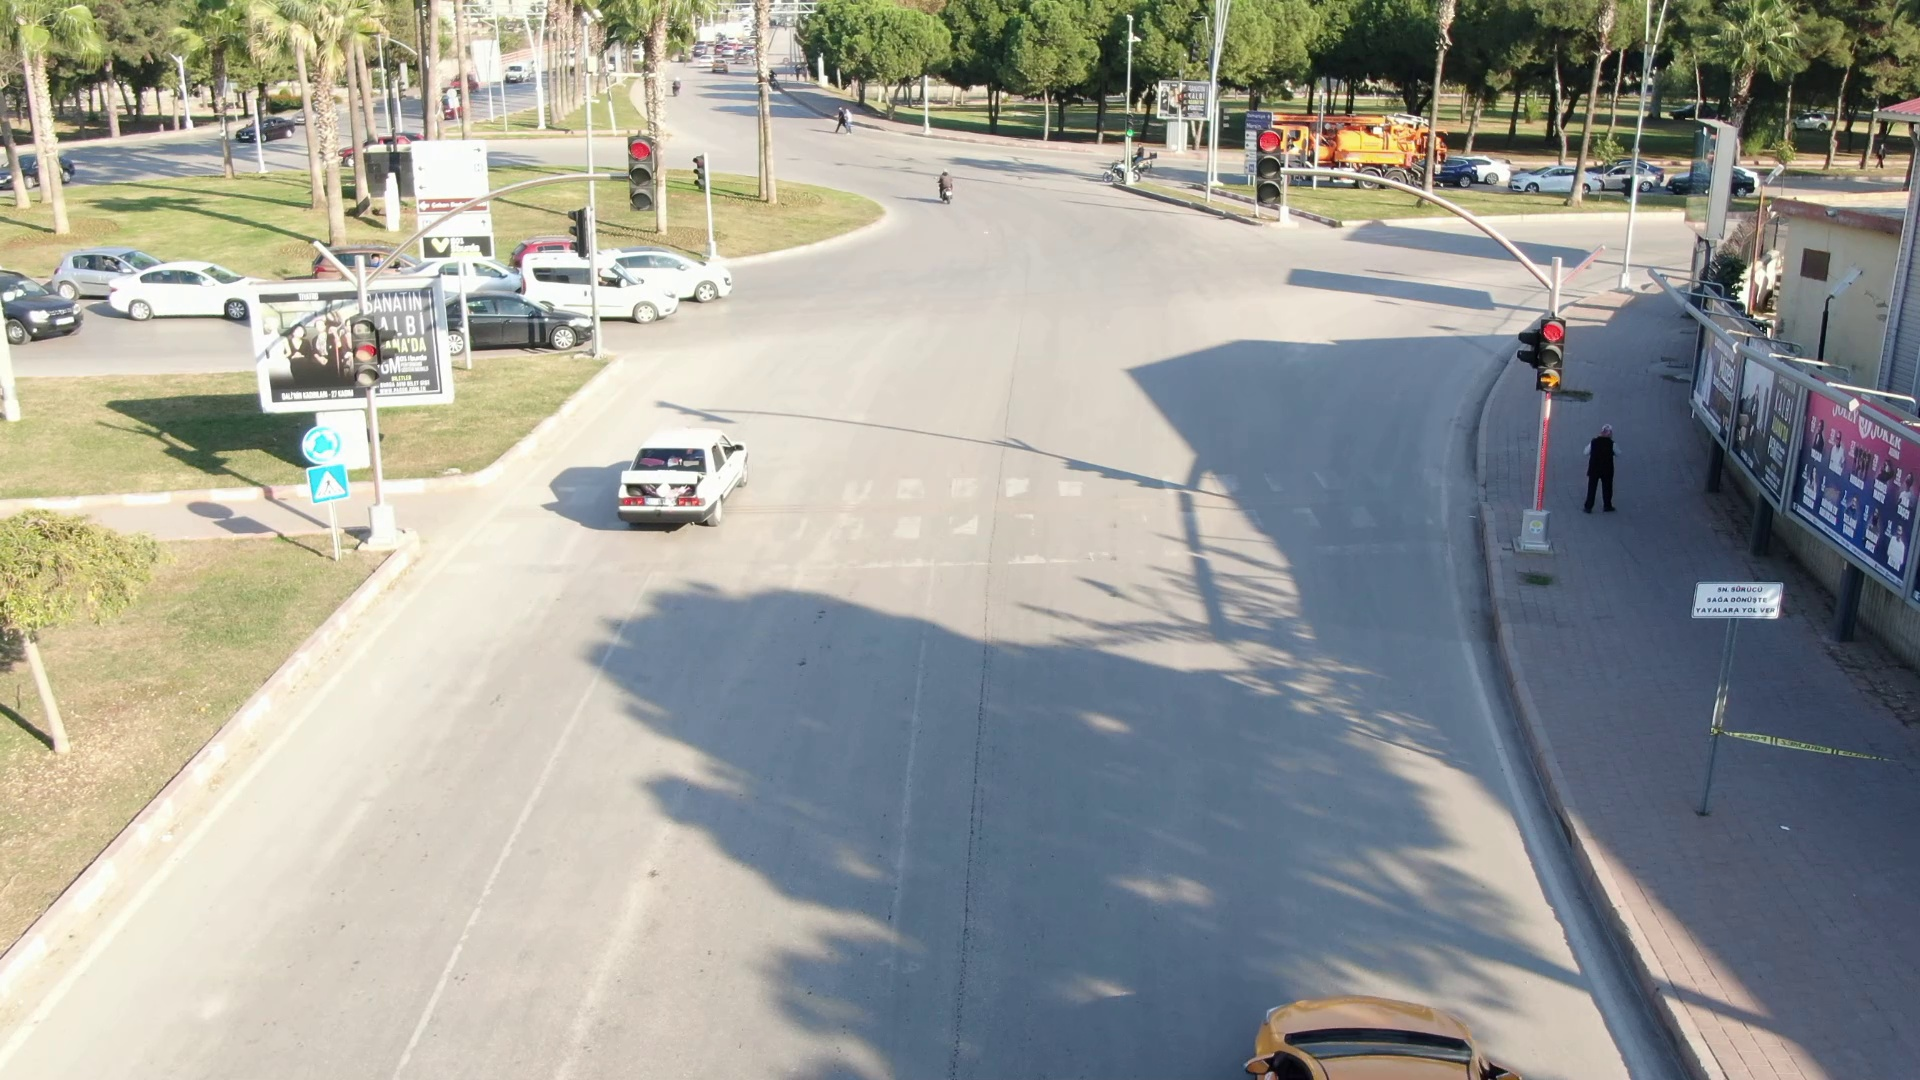car: (612, 421, 759, 535), (514, 239, 688, 325), (602, 225, 739, 310), (443, 284, 598, 353), (98, 263, 263, 317)
person: (1574, 415, 1625, 519), (925, 161, 961, 204)
